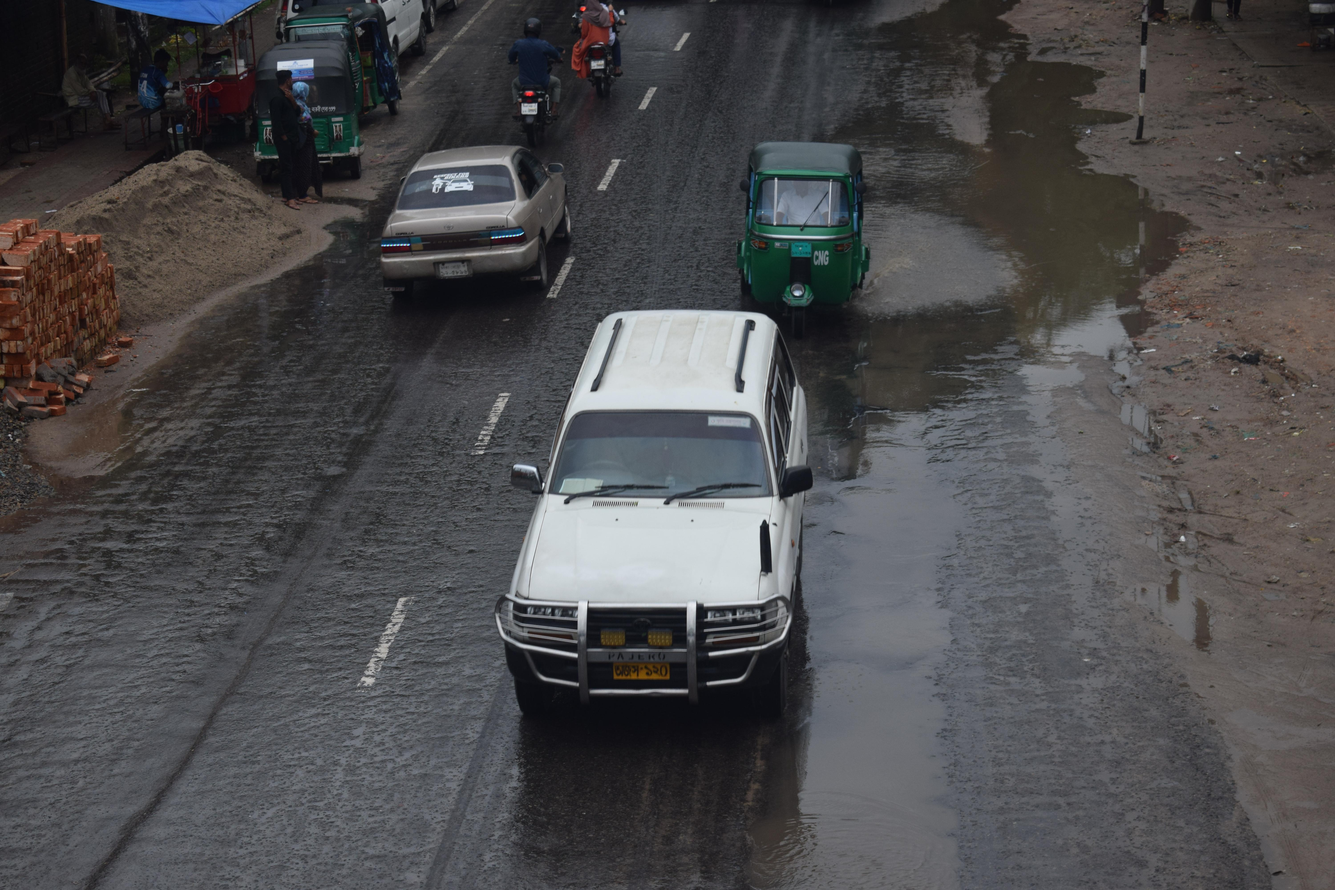Bike: (481, 8, 594, 157), (551, 0, 643, 107)
Car: (480, 277, 848, 761), (356, 129, 604, 318)
